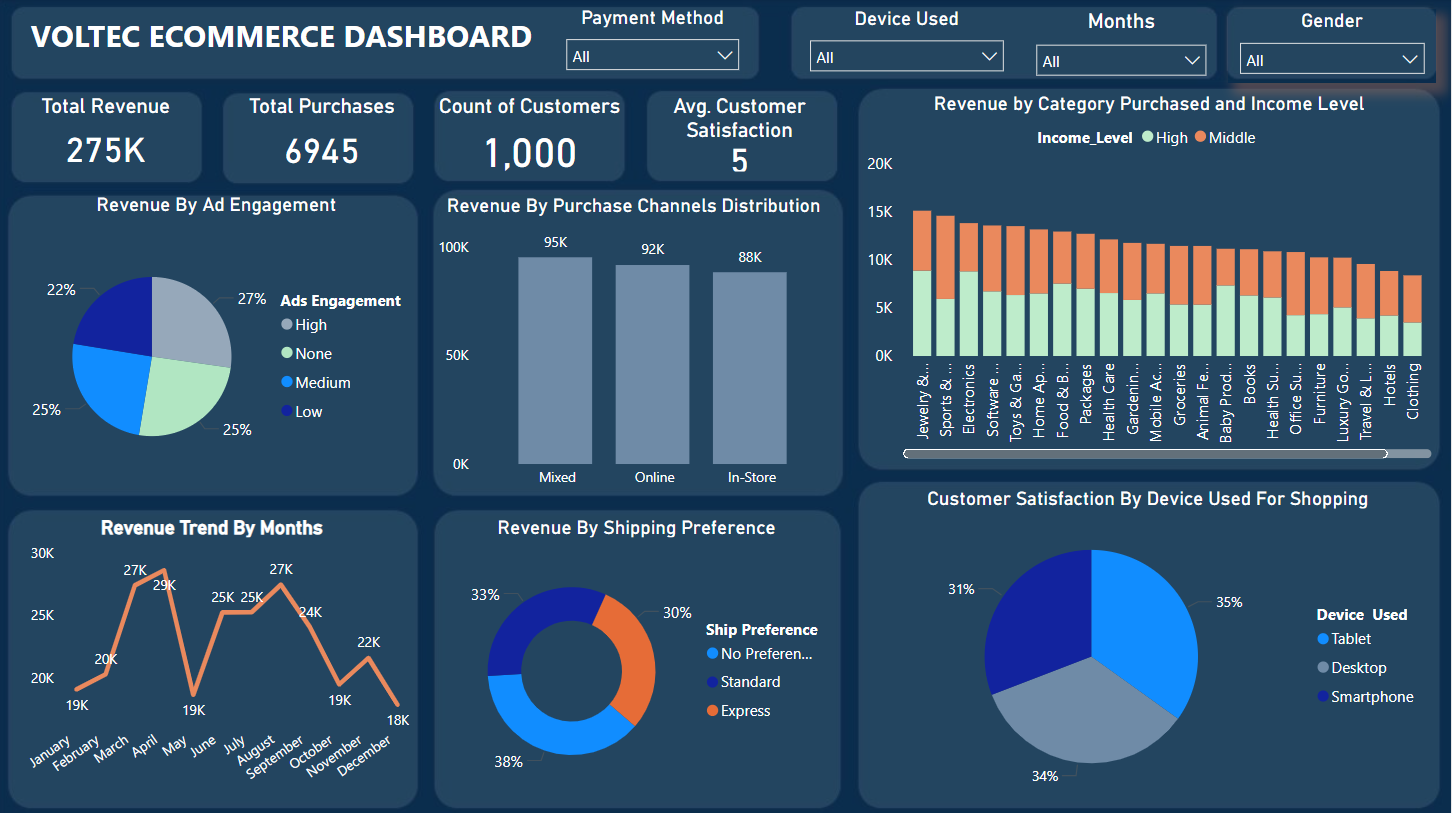

This screenshot's page, from the dashboard's own definition file:
{"tool":"powerbi","page":{"name":"Page 1","canvas":[1280,720],"ordinal":0},"visuals":[{"type":"lineChart","title":"Revenue Trend By Months","fields":{"Category":["Ecommerce Project Data.Time_of_Purchase.Variation.Date Hierarchy.Month"],"Y":["Sum(Ecommerce Project Data.Purchase_Amount)"]},"box":[9.6,455.6,358.1,255.2],"z":0},{"type":"clusteredColumnChart","title":"Revenue By Purchase Channels Distribution","fields":{"Category":["Ecommerce Project Data.Purchase_Channel"],"Y":["Sum(Ecommerce Project Data.Purchase_Amount)"]},"box":[382.5,172.5,355,267.5],"z":1000},{"type":"card","title":"Total Revenue","fields":{"Values":["Sum(Ecommerce Project Data.Purchase_Amount)"]},"box":[19.2,85.1,153.7,72.7],"z":2000},{"type":"card","title":"Total Purchases","fields":{"Values":["Sum(Ecommerce Project Data.Frequency_of_Purchase)"]},"box":[203.1,85.1,164.7,75.5],"z":3000},{"type":"pieChart","title":"Revenue By Ad Engagement","fields":{"Y":["Sum(Ecommerce Project Data.Purchase_Amount)"],"Category":["Ecommerce Project Data.Engagement_with_Ads"]},"box":[19.2,171.5,348.5,269],"z":4000},{"type":"slicer","title":"Gender","fields":{"Values":["Ecommerce Project Data.Gender"]},"box":[1089.3,9.5,175,60.7],"z":5000},{"type":"card","title":"Count of Customers","fields":{"Values":["CountNonNull(Ecommerce Project Data.Customer_ID)"]},"box":[382.8,85.1,171.5,75.5],"z":6000},{"type":"textbox","box":[16.2,10,467.5,55],"z":7000},{"type":"card","title":"Avg. Customer Satisfaction ","fields":{"Values":["Avg(Ecommerce Project Data.Customer_Satisfaction)"]},"box":[576.3,85.1,153.7,72.7],"z":8000},{"type":"slicer","title":"Device Used","fields":{"Values":["Ecommerce Project Data.Device_Used_for_Shopping"]},"box":[897.6,9.5,160.7,61.9],"z":9000},{"type":"columnChart","title":"Revenue by Category Purchased and Income Level","fields":{"Category":["Ecommerce Project Data.Purchase_Category"],"Y":["Sum(Ecommerce Project Data.Purchase_Amount)"],"Series":["Ecommerce Project Data.Income_Level"]},"box":[760,82.5,507.5,327.5],"z":10000},{"type":"slicer","title":"Payment Method","fields":{"Values":["Ecommerce Project Data.Payment_Method"]},"box":[706,9.5,171.4,63.1],"z":11000},{"type":"pieChart","title":"Customer Satisfaction By Device Used For Shopping","fields":{"Y":["Sum(Ecommerce Project Data.Customer_Satisfaction)"],"Category":["Ecommerce Project Data.Device_Used_for_Shopping"]},"box":[760,430,505,280],"z":12000},{"type":"donutChart","title":"Revenue By Shipping Preference","fields":{"Category":["Ecommerce Project Data.Shipping_Preference"],"Y":["Sum(Ecommerce Project Data.Purchase_Amount)"]},"box":[382.5,455,360,255],"z":13000},{"type":"actionButton","box":[551.2,10.7,100,57.1],"z":14000}]}

Visuals, with their boxes in screenshot pixels (x1, y1, x2, y2), scaled from the page's 1280x720 canvas onto the 1452x813 screenshot:
"Revenue Trend By Months" lineChart: [11, 514, 417, 803]
"Revenue By Purchase Channels Distribution" clusteredColumnChart: [434, 195, 837, 497]
"Total Revenue" card: [22, 96, 196, 178]
"Total Purchases" card: [230, 96, 417, 181]
"Revenue By Ad Engagement" pieChart: [22, 194, 417, 497]
"Gender" slicer: [1236, 11, 1434, 79]
"Count of Customers" card: [434, 96, 629, 181]
textbox: [18, 11, 549, 73]
"Avg. Customer Satisfaction " card: [654, 96, 828, 178]
"Device Used" slicer: [1018, 11, 1201, 81]
"Revenue by Category Purchased and Income Level" columnChart: [862, 93, 1438, 463]
"Payment Method" slicer: [801, 11, 995, 82]
"Customer Satisfaction By Device Used For Shopping" pieChart: [862, 486, 1435, 802]
"Revenue By Shipping Preference" donutChart: [434, 514, 842, 802]
actionButton: [625, 12, 739, 77]
